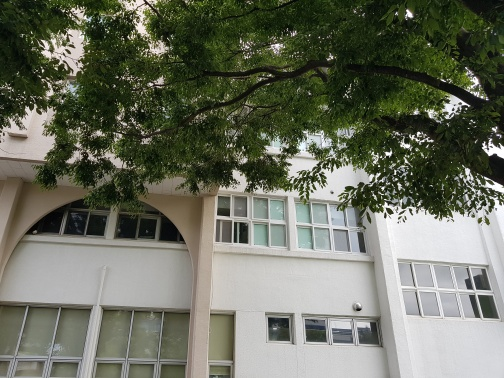Main Building of University: (15, 115, 496, 373)
